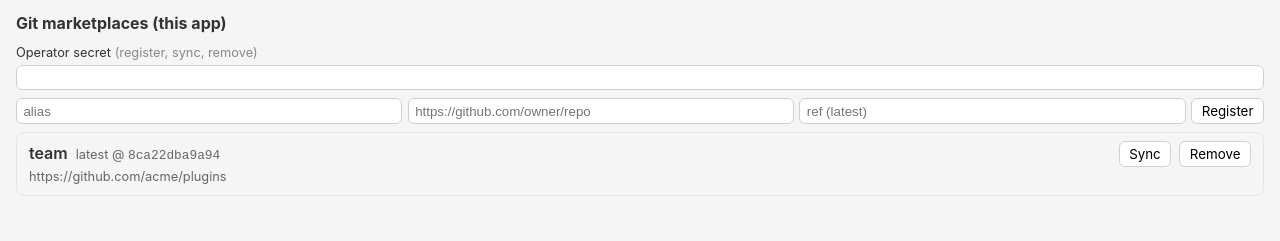
AppMarketplacePanel › explains an operator refusal (operator_secret_not_configured)
Click the button with test id "app-marketplace-remove-team" at (1215, 154), box [1179,141,1251,167]
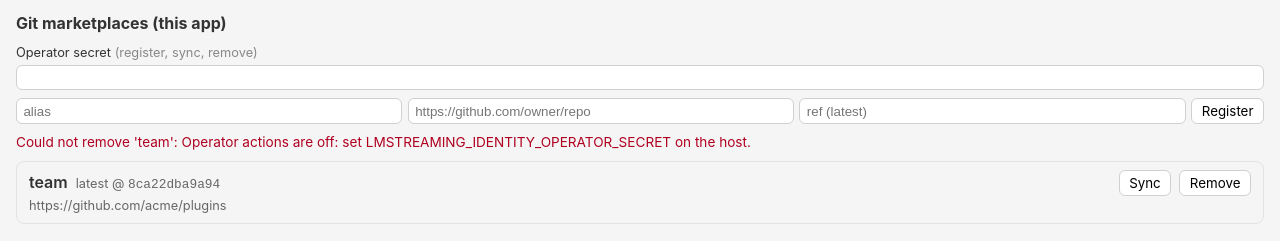
Expected: the list item with test id "app-marketplace-row-team" is shown, [16,161,1264,224]
Expected: the message with test id "app-marketplace-error" shows "LMSTREAMING_IDENTITY_OPERATOR_SECRET", [16,134,751,150]
